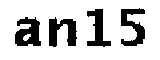1: (83, 6, 116, 52)
5: (118, 5, 152, 50)
a: (12, 17, 42, 51)
n: (46, 15, 80, 52)
